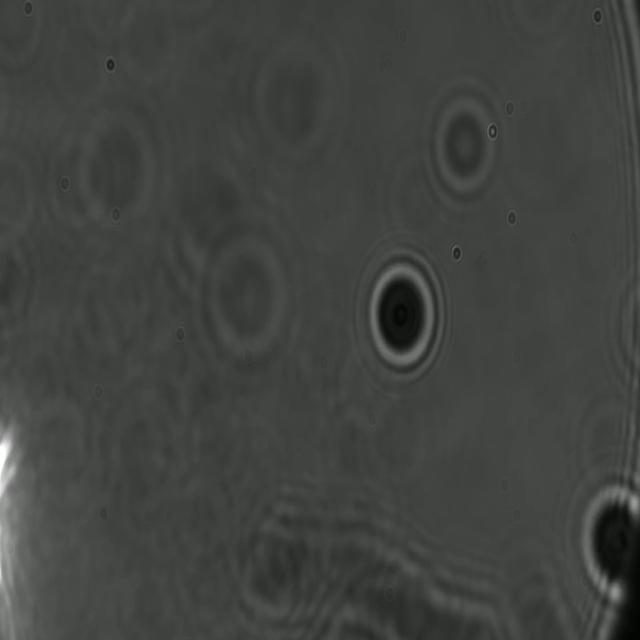DCELL: (360, 245, 444, 388)
